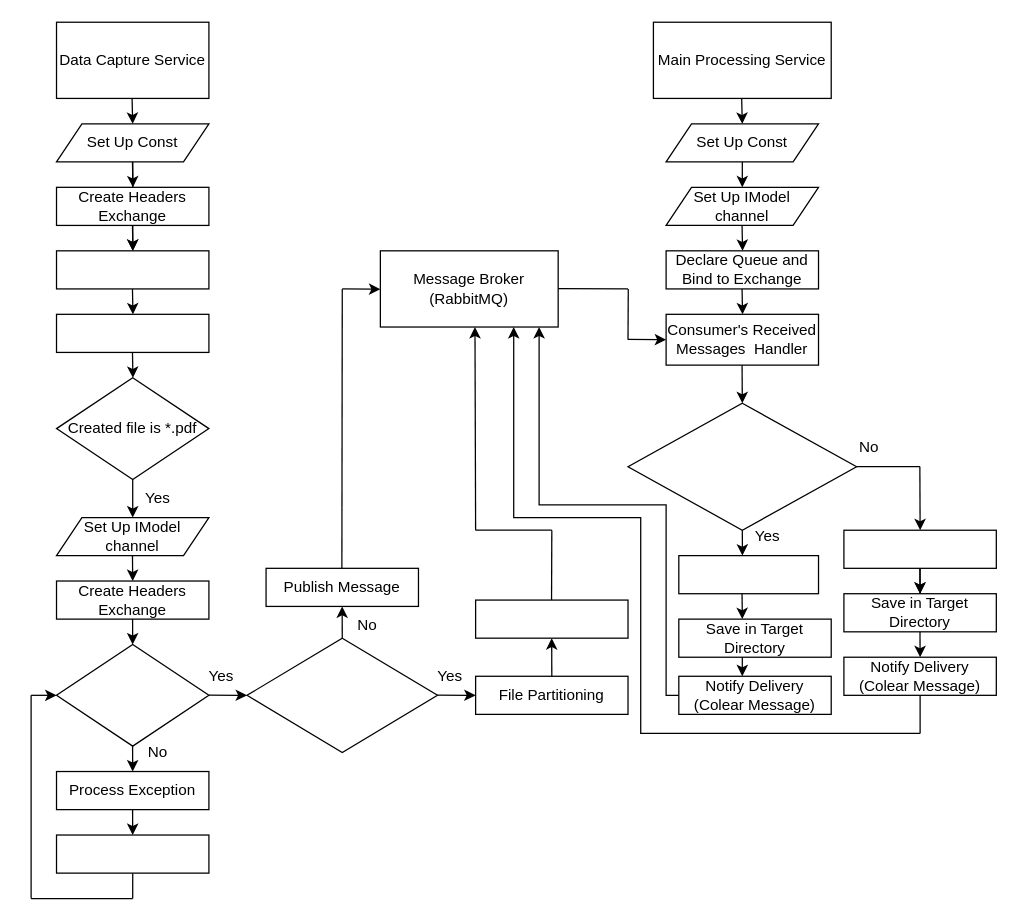
Image size: 1019x922. Some labels were removed from this diagram. The shapes that lost their labels are listed below. From the top down, each one's box as (x1, y1, x2, y2) in pixels, then its label:
(55, 250, 209, 289): Start watching Directory
(55, 313, 209, 352): Created File Handler
(627, 402, 857, 530): Message is chunk of big File (checking headers)
(843, 529, 996, 568): Process Whole File
(678, 554, 819, 594): Process File Chunk
(474, 599, 628, 638): Publish File Chunks as Messages
(55, 643, 209, 746): File is fully available
(246, 637, 438, 752): File is bigger than 100 Mb
(55, 834, 209, 873): Wait for 1 sec.
